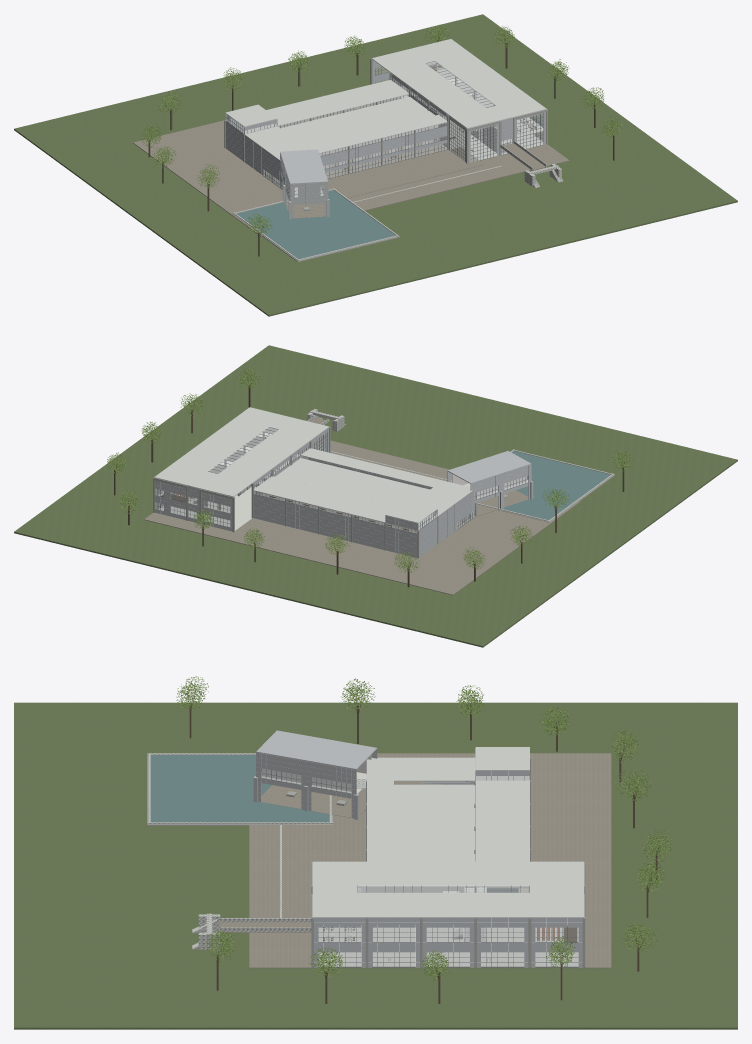
3 renders of one model, top to bottom at view 1: azimuth 30°, elevation 25°; view 2: azimuth 150°, elevation 25°; view 3: azimuth 270°, elevation 25°, orthographic. The views are drawn at different scales.
Parts seen in each view (by area): view 1: 11_Complete_Architecture; view 2: 11_Complete_Architecture; view 3: 11_Complete_Architecture.
Boxes of the visible parts, x1,y1,x2,y2 form: 11_Complete_Architecture: (14,14,737,316); 11_Complete_Architecture: (14,345,737,647); 11_Complete_Architecture: (14,676,737,1029).
Bounding box in the file's own units: 170 × 16.2 × 160.
Materials: 25 (7 with a texture image).
